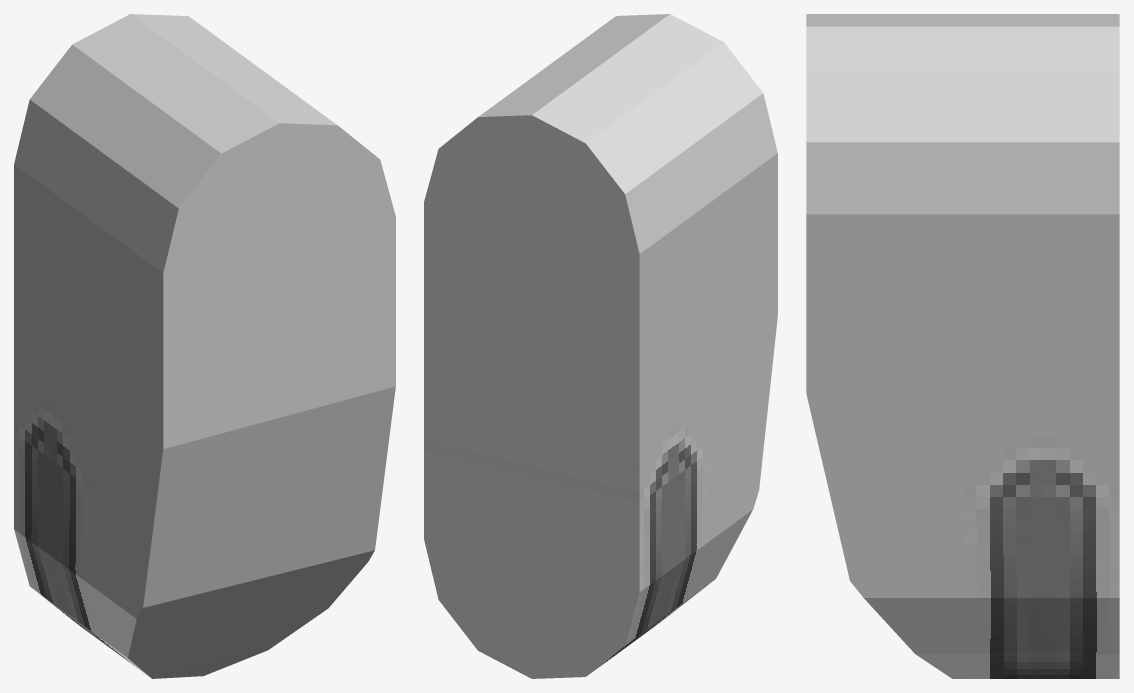
Rendered from R_LINDEX_S.dae.
The picture shows the model from 3 angles, left to right: view 1: azimuth 30°, elevation 25°; view 2: azimuth 150°, elevation 25°; view 3: azimuth 270°, elevation 25°; orthographic projection. The views are drawn at different scales.
Parts seen in each view (by area): view 1: root; view 2: root; view 3: root.
Boxes of the visible parts, bbox=[...] form: root: bbox=[14, 14, 395, 678]; root: bbox=[424, 14, 777, 678]; root: bbox=[806, 14, 1119, 678].
Bounding box in the file's own units: 0.018 × 0.02 × 0.045.
1 material, 1 textured.
